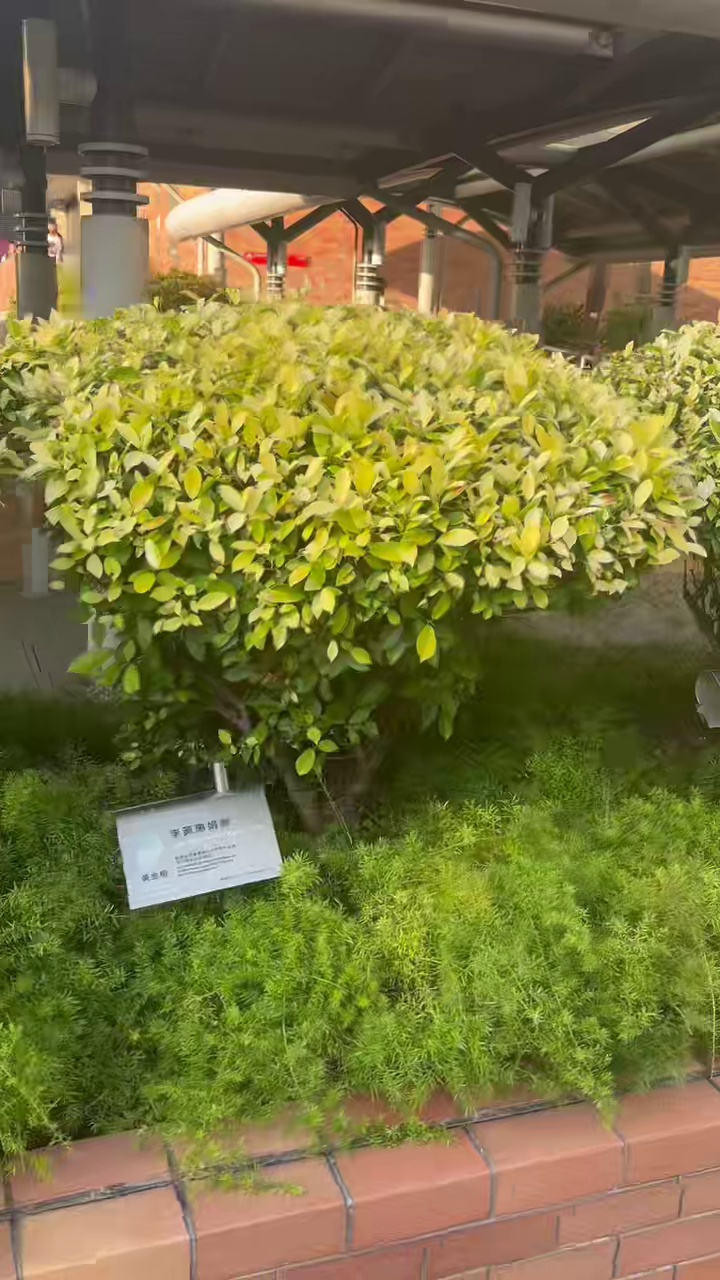Golden-leaves Fig: (27, 304, 703, 820)
